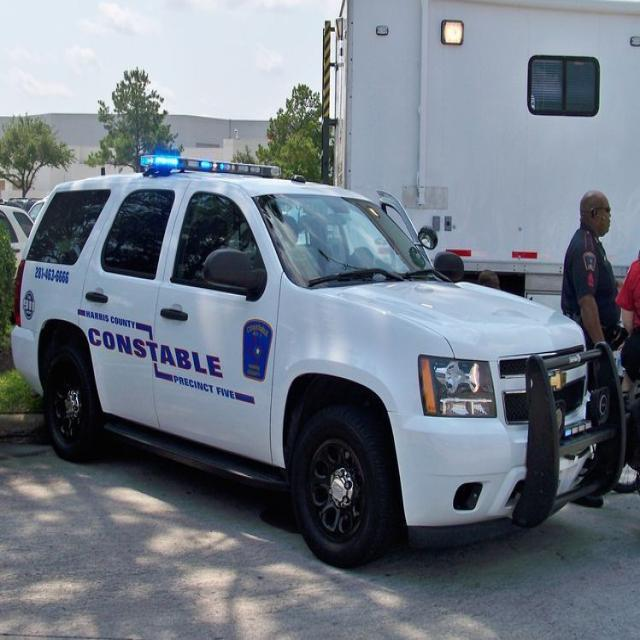fire_truck: (16, 154, 610, 566)
